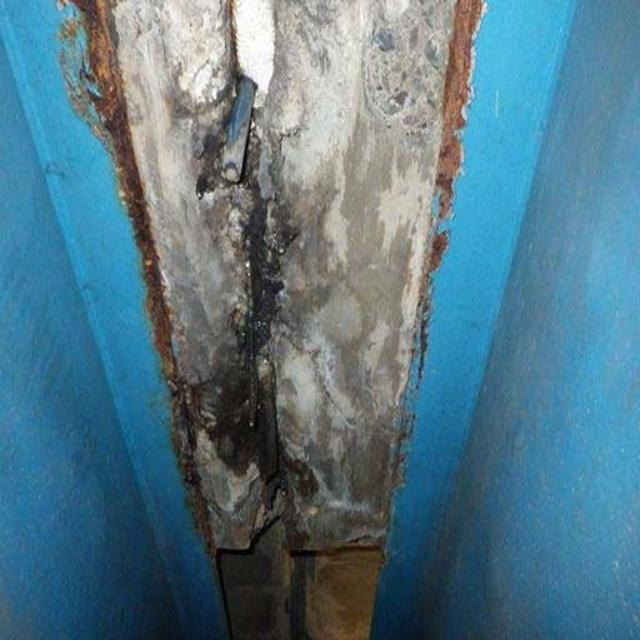corrosion: (54, 16, 176, 354), (409, 10, 504, 416)
spalling: (198, 84, 322, 483)
